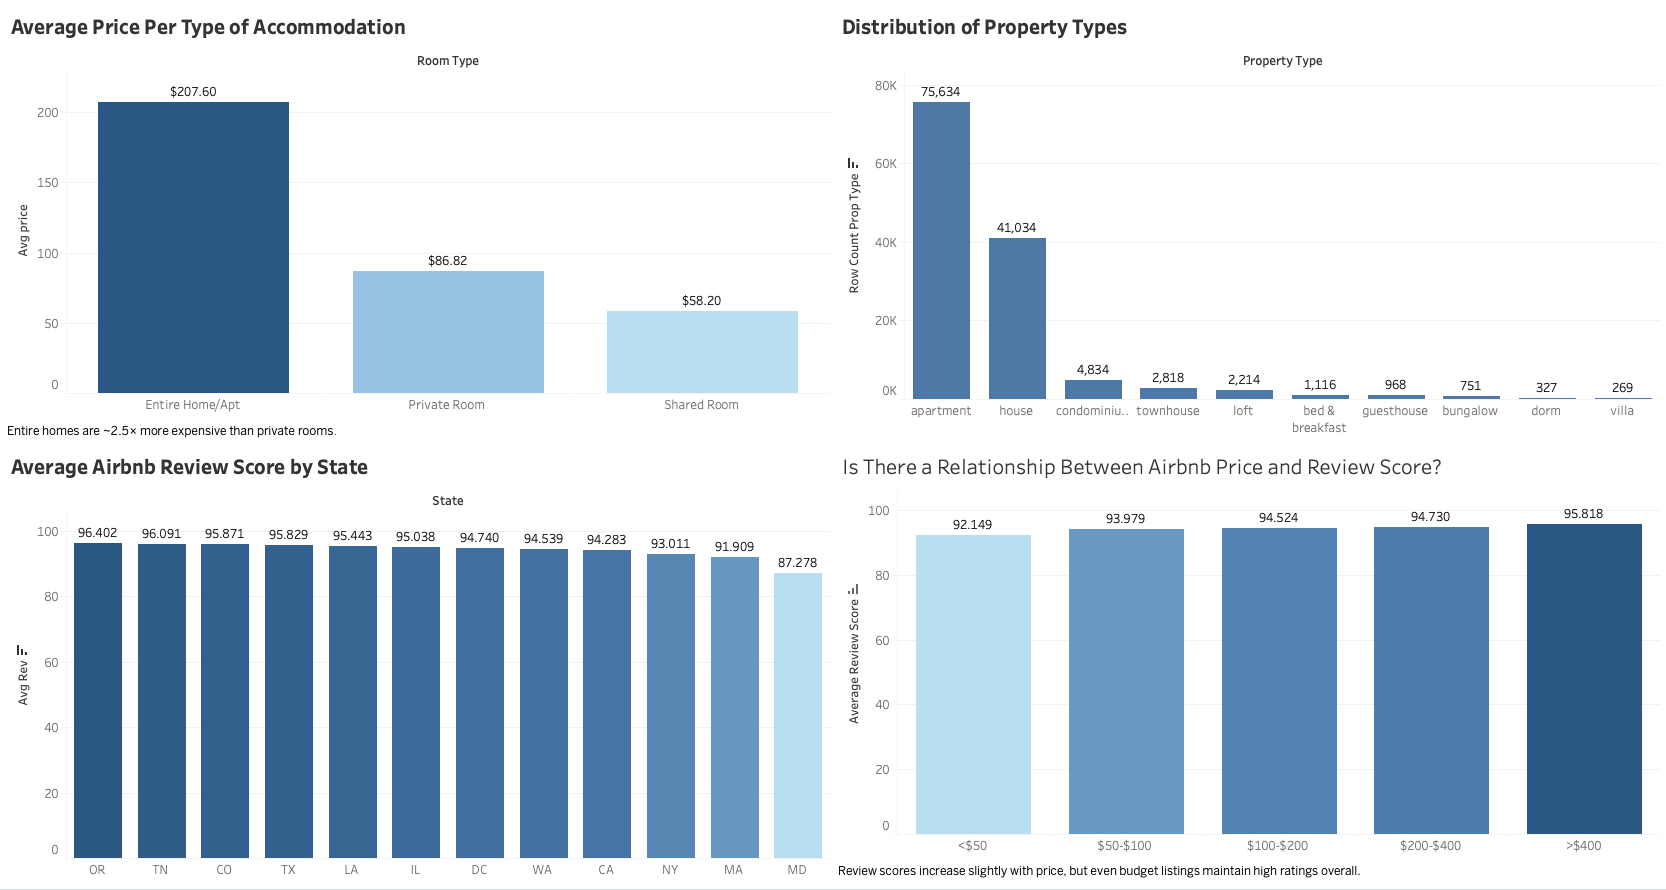

What the dashboard file says about the page in this screenshot:
{"tool":"tableau","page":{"name":"Property Types and Reviews","canvas":[1000,1000],"units":"permille","ordinal":2},"visuals":[{"type":"worksheet","title":"Sheet 6","mark":"Automatic","rows":["Avg_price"],"cols":["room_type"],"box":[4.7,8.9,454.4,491.1]},{"type":"worksheet","title":"Sheet 2","mark":"Automatic","rows":["row_count_prop_type"],"cols":["property_type"],"box":[459,8.9,454.4,491.1]},{"type":"legend","title":"Sheet 6","param":"[federated.1hg5khr1glhwm312uecb10d6aawx].[sum:Avg_price:qk]","box":[913.4,8.9,81.9,72.6]},{"type":"legend","title":"Sheet 9","param":"[federated.08zt4qx0xefy0l1ftlsi51cxpjis].[sum:avg_rev:qk]","box":[913.4,81.6,81.9,72.6]},{"type":"legend","title":"Sheet 10","param":"[federated.0zpwrqo1o0glgv15t0hdp0ft42ms].[sum:avg_rev:qk]","box":[913.4,154.2,81.9,72.6]},{"type":"worksheet","title":"Sheet 9","mark":"Automatic","rows":["avg_rev"],"cols":["state"],"box":[4.7,500,454.4,491.1]},{"type":"worksheet","title":"Sheet 10","mark":"Automatic","rows":["avg_rev"],"cols":["price_range"],"box":[459,500,454.4,491.1]}]}

Visuals, with their boxes on the dashboard's canvas, which has no fixed pixel size, in thousandths of its width and height (x1, y1, x2, y2). These are canvas units, not pixel positions in the 1666x890 screenshot, which may show the page scaled, cropped or inside an application window:
"Sheet 6" worksheet: bbox=[5, 9, 459, 500]
"Sheet 2" worksheet: bbox=[459, 9, 913, 500]
"Sheet 6" legend: bbox=[913, 9, 995, 82]
"Sheet 9" legend: bbox=[913, 82, 995, 154]
"Sheet 10" legend: bbox=[913, 154, 995, 227]
"Sheet 9" worksheet: bbox=[5, 500, 459, 991]
"Sheet 10" worksheet: bbox=[459, 500, 913, 991]
